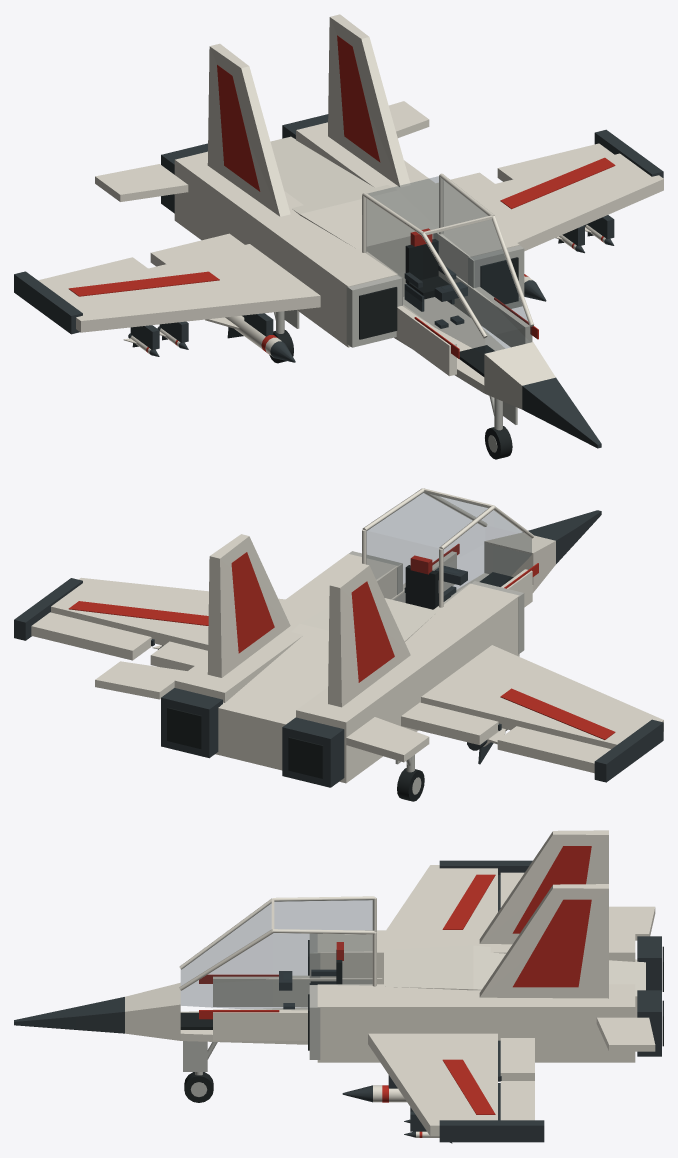
The picture shows the model from 3 angles, top to bottom: view 1: azimuth 30°, elevation 25°; view 2: azimuth 150°, elevation 25°; view 3: azimuth 270°, elevation 25°; orthographic projection. The views are drawn at different scales.
Visible parts, largest first — view 1: jet-a-fleet-armor, jet-a-fleet-glass, jet-a-fleet-machine, jet-a-fleet-red, jet-a-fleet-rubber, crew-chair-pilot-painted, jet-a-fleet-edge, elevator-left-fleet-armor, aileron-right-painted, aileron-left-painted, flap-left-painted, store-left-large-painted (+2 smaller); view 2: jet-a-fleet-armor, jet-a-fleet-glass, jet-a-fleet-machine, jet-a-fleet-red, aileron-right-painted, aileron-left-painted, jet-a-fleet-rubber, flap-left-painted, elevator-left-fleet-armor, elevator-right-fleet-armor, crew-chair-pilot-painted, flap-right-painted (+2 smaller); view 3: jet-a-fleet-armor, jet-a-fleet-glass, jet-a-fleet-red, jet-a-fleet-machine, elevator-right-fleet-armor, flap-right-painted, aileron-right-painted, jet-a-fleet-edge, elevator-left-fleet-armor, crew-chair-pilot-painted, landing-gear-nose-fleet-edge, jet-a-fleet-rubber (+3 smaller).
Boxes of the visible parts, x1,y1,x2,y2 form: jet-a-fleet-armor: (54, 14, 663, 409); jet-a-fleet-glass: (366, 176, 531, 353); jet-a-fleet-machine: (14, 114, 663, 448); jet-a-fleet-red: (68, 35, 615, 358); jet-a-fleet-rubber: (359, 257, 518, 376); crew-chair-pilot-painted: (404, 228, 467, 328); jet-a-fleet-edge: (346, 245, 524, 347); elevator-left-fleet-armor: (95, 164, 188, 201); aileron-right-painted: (497, 143, 614, 181); aileron-left-painted: (38, 257, 147, 291); flap-left-painted: (150, 233, 244, 266); store-left-large-painted: (205, 315, 295, 362); jet-a-fleet-armor: (51, 488, 663, 783); jet-a-fleet-glass: (366, 492, 531, 608); jet-a-fleet-machine: (14, 510, 663, 787); jet-a-fleet-red: (68, 544, 615, 739); aileron-right-painted: (31, 612, 154, 660); aileron-left-painted: (497, 726, 610, 773); jet-a-fleet-rubber: (167, 572, 513, 778); flap-left-painted: (401, 702, 501, 744); elevator-left-fleet-armor: (346, 717, 429, 762); elevator-right-fleet-armor: (95, 661, 187, 699); crew-chair-pilot-painted: (404, 555, 467, 609); flap-right-painted: (150, 641, 207, 670); jet-a-fleet-armor: (125, 830, 645, 1136); jet-a-fleet-glass: (181, 899, 373, 1009); jet-a-fleet-red: (199, 846, 591, 1114); jet-a-fleet-machine: (14, 860, 661, 1142); elevator-right-fleet-armor: (596, 1017, 655, 1051); flap-right-painted: (498, 1038, 534, 1081); aileron-right-painted: (498, 1081, 534, 1120); jet-a-fleet-edge: (309, 933, 320, 1059); elevator-left-fleet-armor: (609, 906, 655, 940); crew-chair-pilot-painted: (279, 942, 343, 1009); landing-gear-nose-fleet-edge: (183, 1041, 217, 1075); jet-a-fleet-rubber: (180, 940, 663, 1050).
Bounding box in the file's own units: 59.87 × 25.4 × 62.11.
